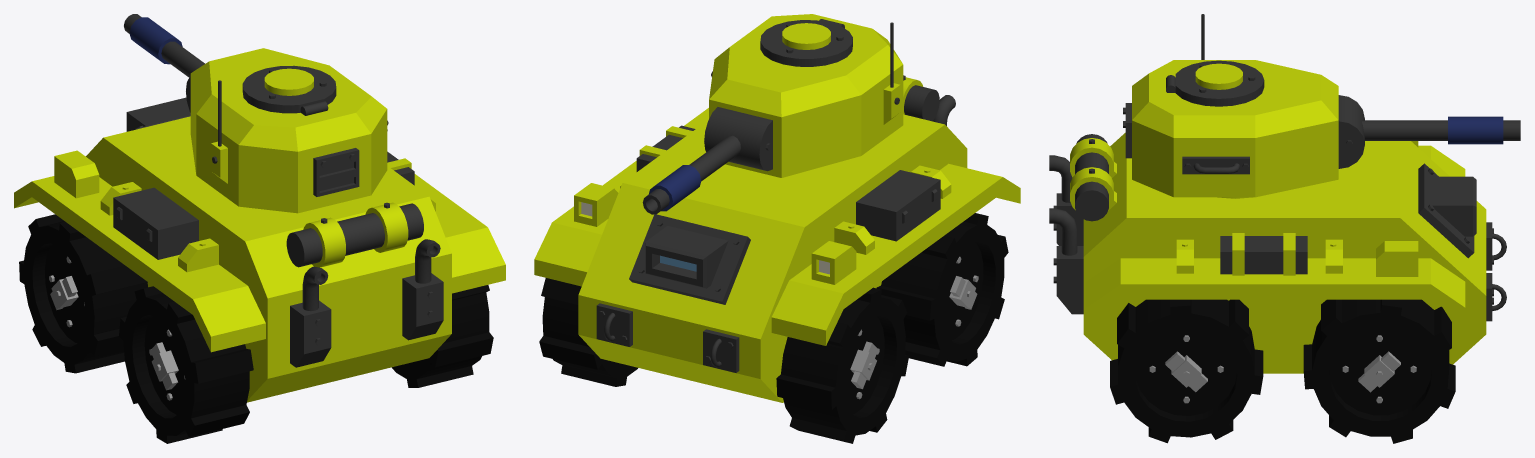
Rendered from Tank_2.fbx.
The picture shows the model from 3 angles, left to right: view 1: azimuth 30°, elevation 25°; view 2: azimuth 150°, elevation 25°; view 3: azimuth 270°, elevation 25°; orthographic projection. The views are drawn at different scales.
Visible parts, largest first — view 1: Tank_B_Body, Tank_B_Turret, Tank_B_Wheel_R_L, Tank_B_Wheel_F_L, Tank_B_Wheel_R_R; view 2: Tank_B_Body, Tank_B_Turret, Tank_B_Wheel_F_L, Tank_B_Wheel_R_L, Tank_B_Wheel_F_R; view 3: Tank_B_Body, Tank_B_Turret, Tank_B_Wheel_R_R, Tank_B_Wheel_F_R.
Part boxes in pixels (box(x1,y1,x2,y2)): Tank_B_Body: box(14, 97, 505, 402); Tank_B_Turret: box(124, 14, 388, 213); Tank_B_Wheel_R_L: box(119, 286, 253, 443); Tank_B_Wheel_F_L: box(19, 214, 147, 373); Tank_B_Wheel_R_R: box(392, 285, 493, 387); Tank_B_Body: box(534, 75, 1020, 402); Tank_B_Turret: box(642, 14, 903, 214); Tank_B_Wheel_F_L: box(776, 287, 908, 443); Tank_B_Wheel_R_L: box(876, 213, 1008, 366); Tank_B_Wheel_F_R: box(539, 278, 637, 386); Tank_B_Body: box(1049, 132, 1506, 373); Tank_B_Turret: box(1123, 14, 1520, 197); Tank_B_Wheel_R_R: box(1110, 299, 1263, 443); Tank_B_Wheel_F_R: box(1303, 299, 1455, 443).
Bounding box in the file's own units: 74.12 × 79.67 × 105.
